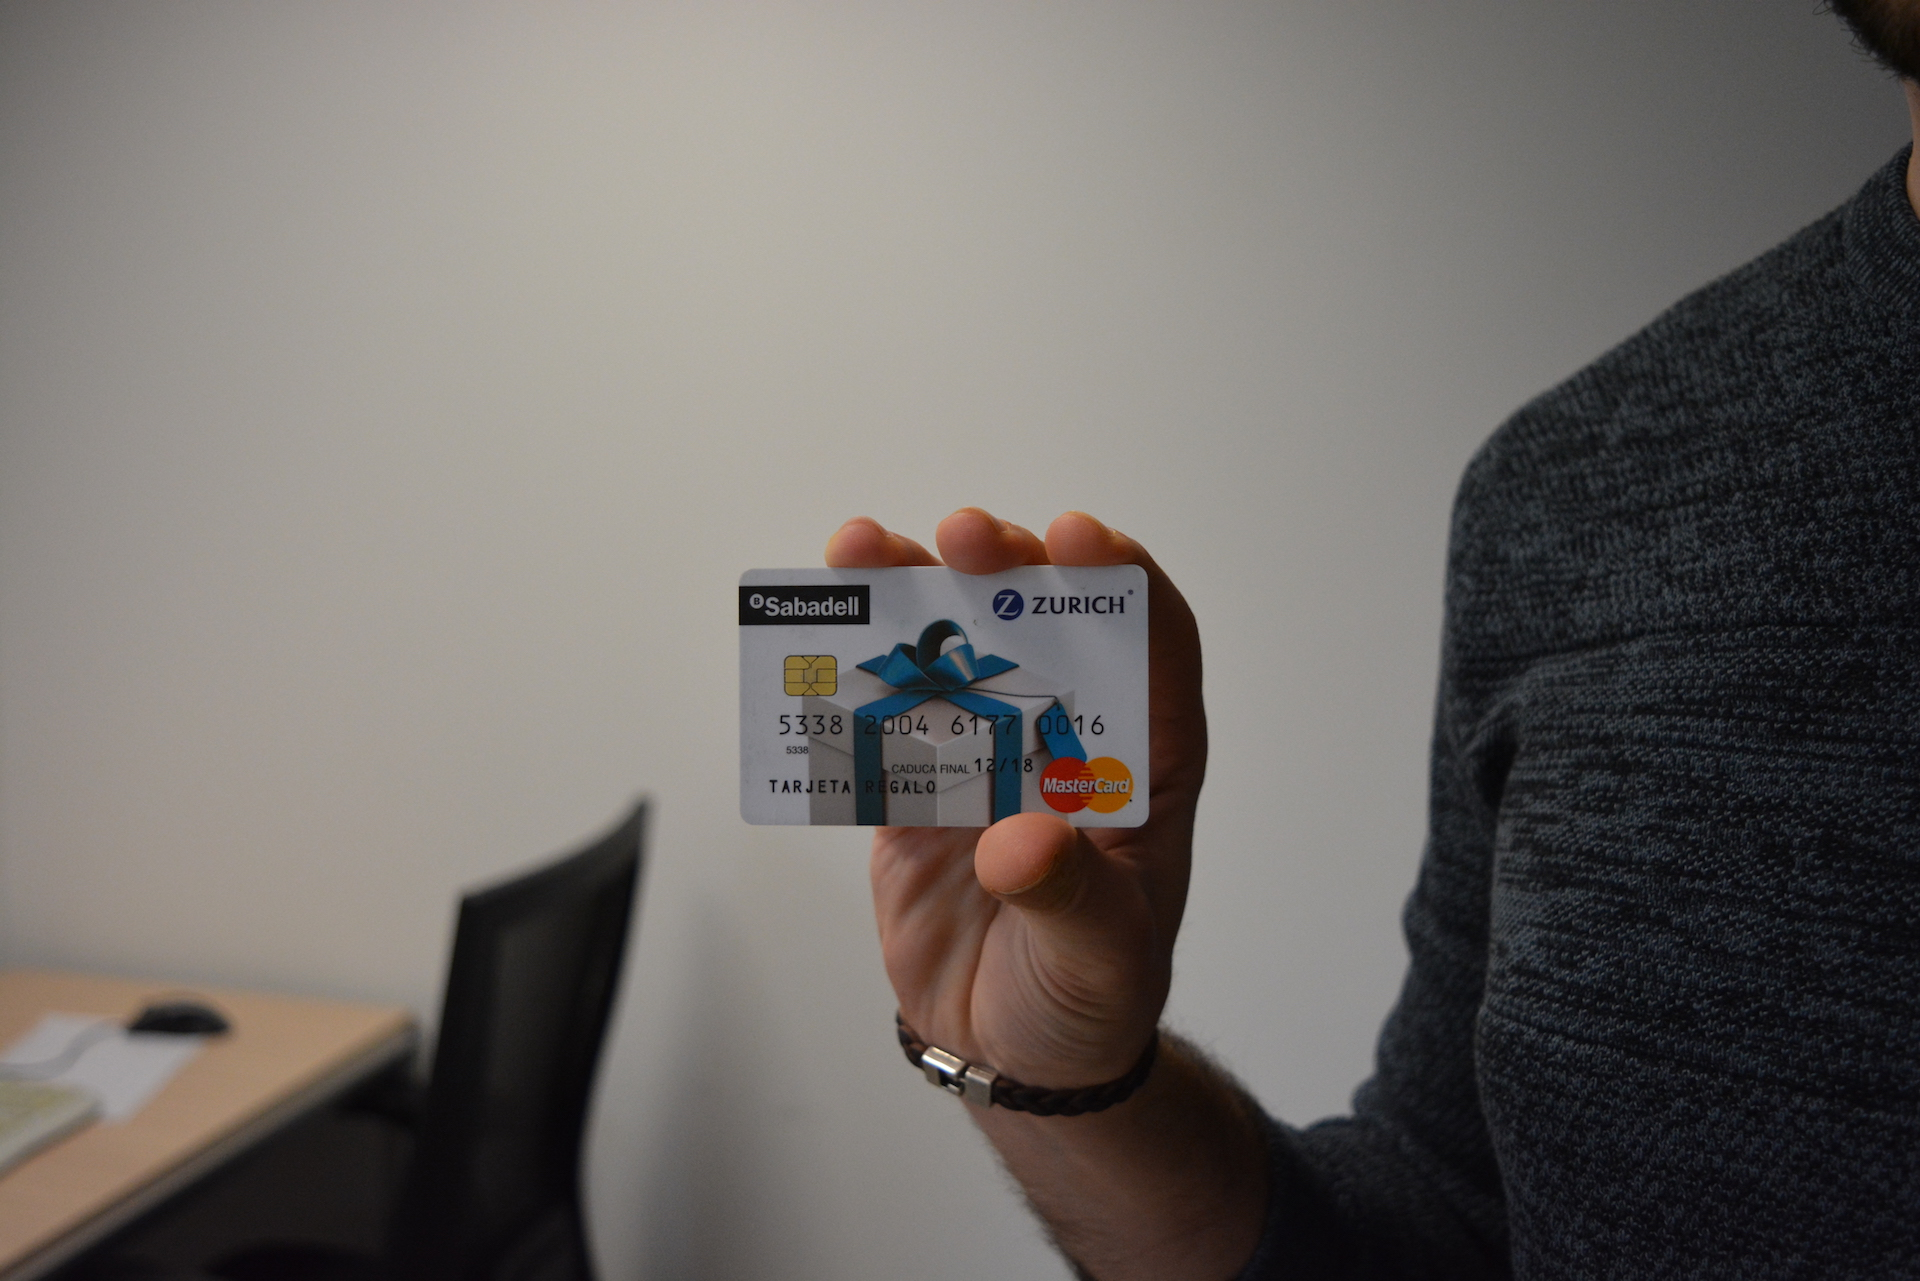tarjeta: (738, 563, 1152, 829)
